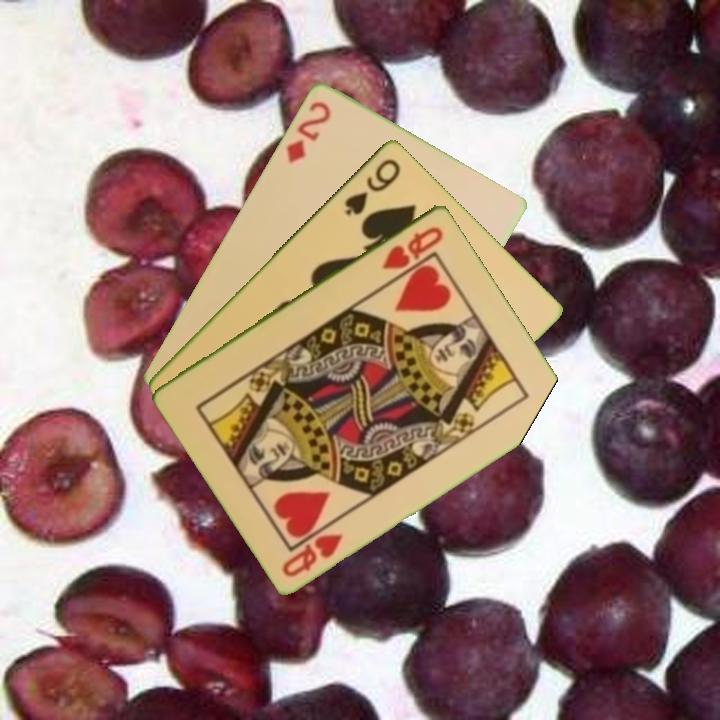2d: (282, 97, 334, 166)
9s: (341, 154, 403, 218)
Qh: (278, 529, 346, 580), (378, 222, 447, 272)
